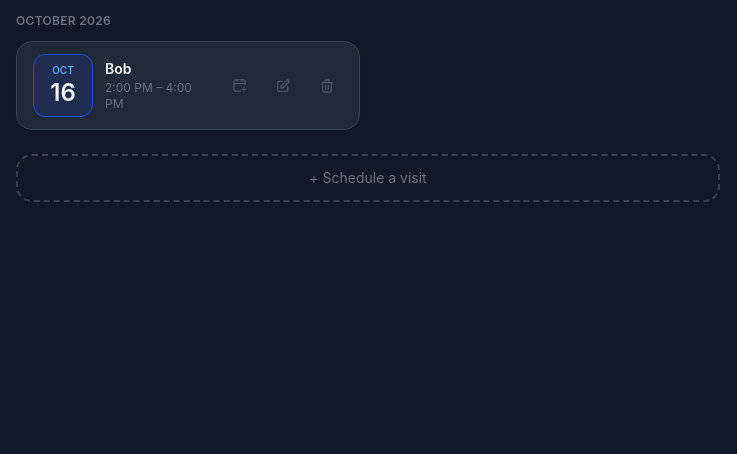
VisitorsPage › edit form for a timed slot pre-populates both time inputs
Expected: the text "Bob" is shown, [105,60,132,77]
Click the button named "Edit Bob" at (283, 86), box [267,70,299,102]
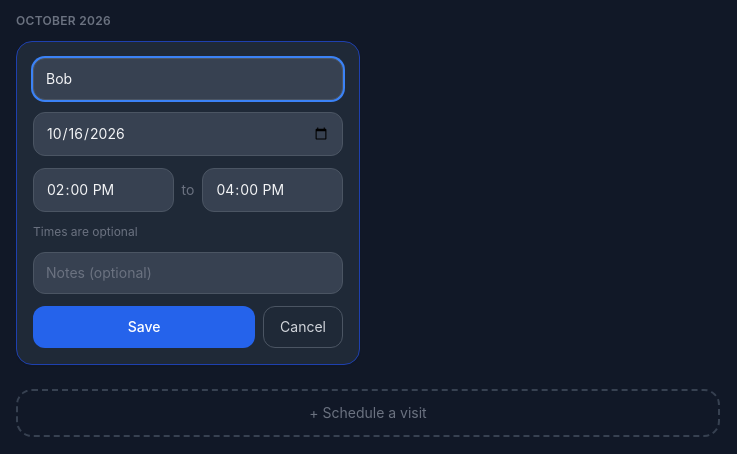
Expected: the 1st time field is not empty, [33,168,174,212]
Expected: the 2nd time field is not empty, [202,168,343,212]
